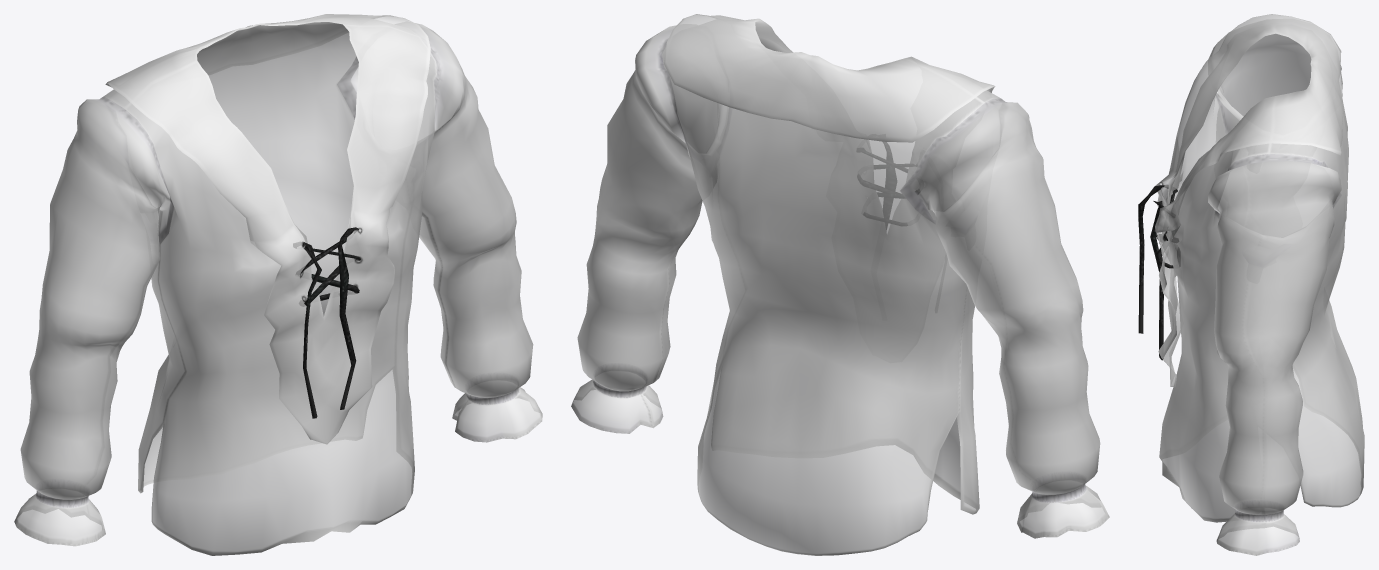
Rendered from punkduck-lace-up-blouse.glb.
3 renders of one model, left to right at view 1: azimuth 30°, elevation 25°; view 2: azimuth 150°, elevation 25°; view 3: azimuth 270°, elevation 25°, orthographic. The views are drawn at different scales.
Visible parts, largest first — view 1: Human.punkduck_lace_up_blouse; view 2: Human.punkduck_lace_up_blouse; view 3: Human.punkduck_lace_up_blouse.
Part boxes in pixels (left/top/right/bottom): Human.punkduck_lace_up_blouse: left=14, top=14, right=542, bottom=555; Human.punkduck_lace_up_blouse: left=571, top=14, right=1109, bottom=555; Human.punkduck_lace_up_blouse: left=1138, top=14, right=1364, bottom=555.
Size of the model in its own units: 0.7867 by 0.6848 by 0.3342.
Materials: 1 (1 with a texture image).
